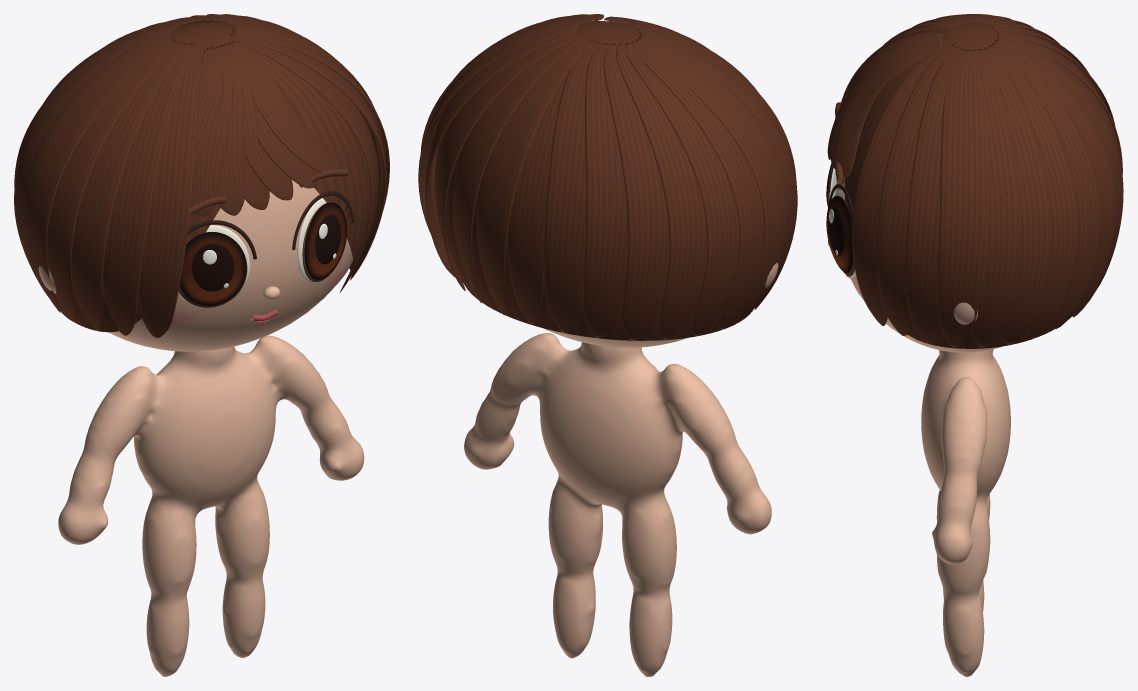
File: doll.glb
The picture shows the model from 3 angles, left to right: view 1: azimuth 30°, elevation 25°; view 2: azimuth 150°, elevation 25°; view 3: azimuth 270°, elevation 25°; orthographic projection. The views are drawn at different scales.
Visible parts, largest first — view 1: hair-Chestnut silk, body, hair-Chestnut ribbons, head-Peach porcelain, eye-right-Honey iris, eye-left-Honey iris, eye-right-Eye glass, head-Watercolour cheeks, eye-left-Eye glass, head-Chestnut silk; view 2: hair-Chestnut silk, body, hair-Chestnut ribbons, head-Peach porcelain; view 3: hair-Chestnut silk, body, hair-Chestnut ribbons, eye-left-Honey iris, head-Peach porcelain, eye-left-Eye glass.
Boxes of the visible parts, x1,y1,x2,y2 form: hair-Chestnut silk: (14,14,389,338); body: (58,335,364,676); hair-Chestnut ribbons: (14,15,378,335); head-Peach porcelain: (38,180,352,351); eye-right-Honey iris: (179,232,246,305); eye-left-Honey iris: (304,202,346,279); eye-right-Eye glass: (192,243,234,291); head-Watercolour cheeks: (141,262,350,328); eye-left-Eye glass: (315,214,340,264); head-Chestnut silk: (188,169,348,214); hair-Chestnut silk: (420,14,797,340); body: (464,333,771,676); hair-Chestnut ribbons: (418,14,758,335); head-Peach porcelain: (543,262,778,347); hair-Chestnut silk: (827,14,1123,348); body: (921,349,1010,676); hair-Chestnut ribbons: (841,18,1122,344); eye-left-Honey iris: (826,196,852,273); head-Peach porcelain: (828,178,1002,352); eye-left-Eye glass: (828,206,844,255).
Size of the model in its own units: 1.43 by 2.56 by 1.11.
12 materials, 3 textured.
